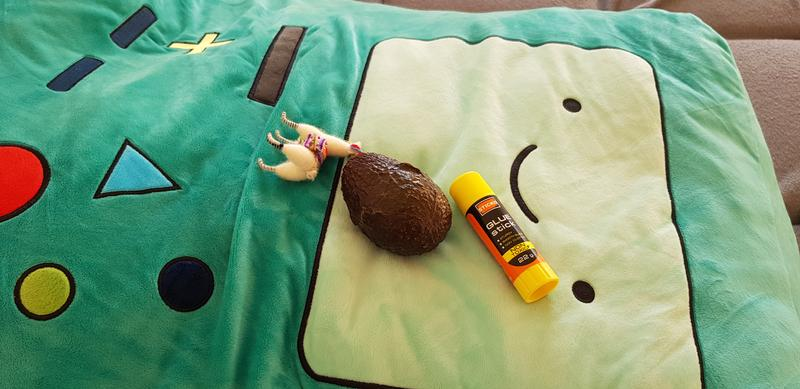Avocado: (337, 149, 458, 262)
Glue-Stick: (448, 167, 563, 309)
Horse-Toy: (256, 108, 365, 188)
